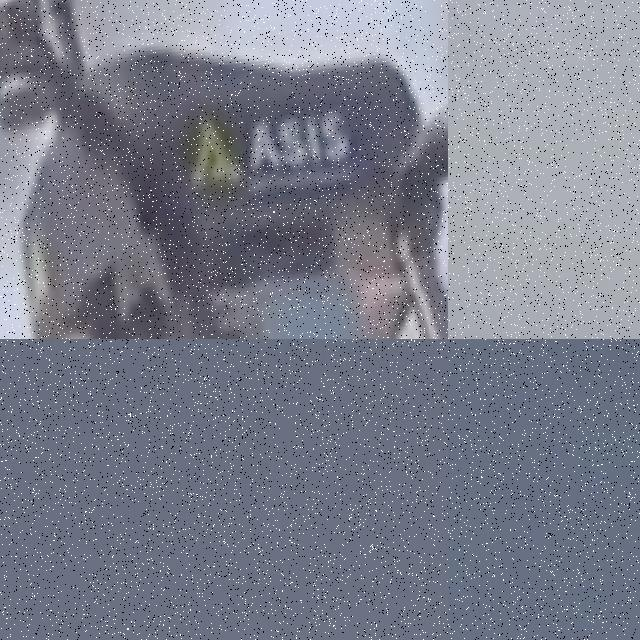drone: (0, 0, 448, 339)
